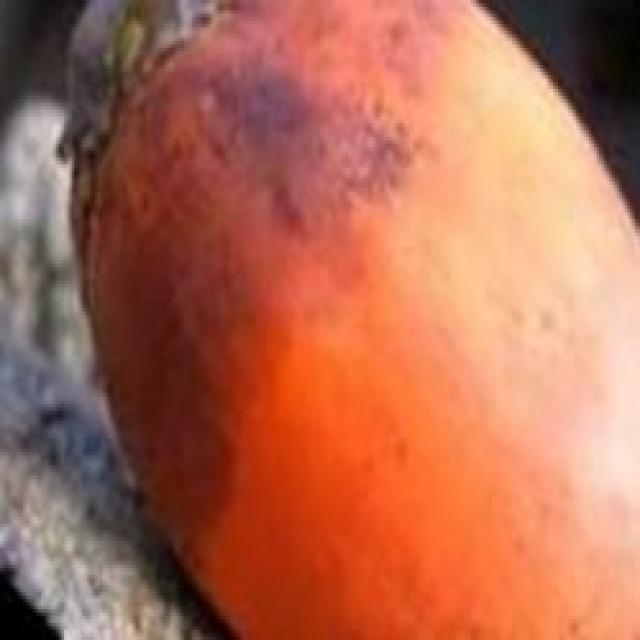good: (59, 0, 637, 637)
